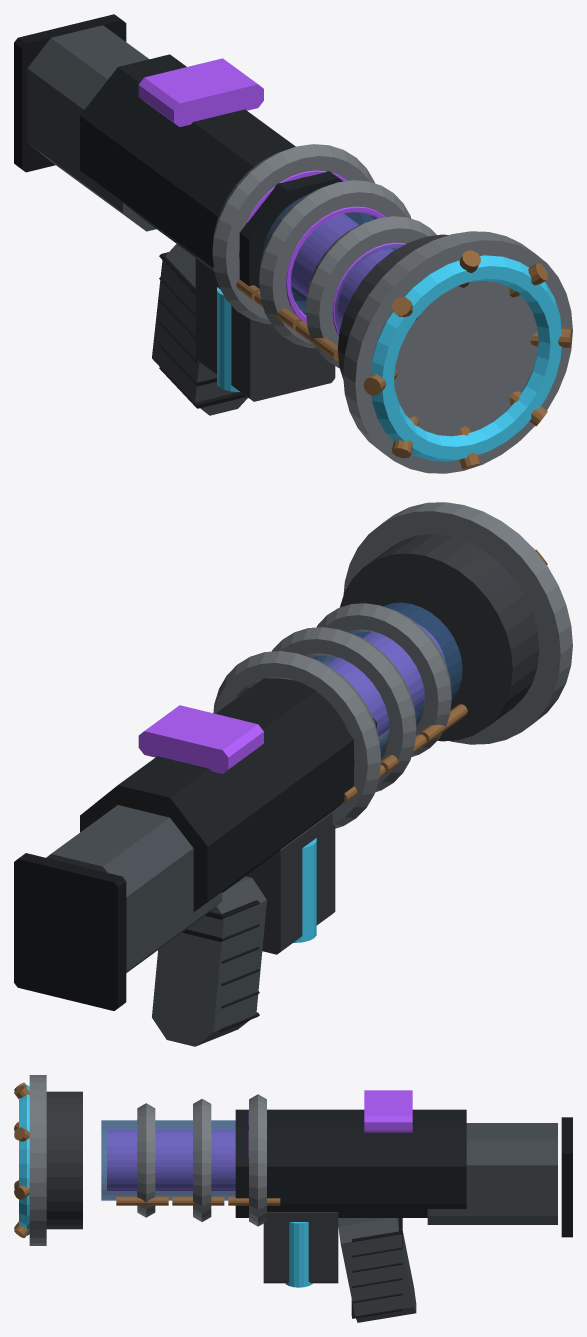
File: 10_Resonance_Pulse_Projector.obj
3 views of the same model, one above another, from view 1: azimuth 30°, elevation 25°; view 2: azimuth 150°, elevation 25°; view 3: azimuth 270°, elevation 25° (orthographic). The views are drawn at different scales.
Visible parts, largest first — view 1: 025_Dish_Reflector, 000_Power_Receiver, 026_Pulse_Mouth, 001_Shoulder_Brace, 036_Battery_Pack, 010_Magnetic_Torus_0, 014_Magnetic_Torus_1, 003_Angled_Grip, 035_Reactor_Display, 018_Magnetic_Torus_2, 022_Pulse_Capacitor, 002_ButtPad (+5 smaller); view 2: 000_Power_Receiver, 024_Dish_Base, 002_ButtPad, 025_Dish_Reflector, 003_Angled_Grip, 001_Shoulder_Brace, 010_Magnetic_Torus_0, 036_Battery_Pack, 014_Magnetic_Torus_1, 018_Magnetic_Torus_2, 035_Reactor_Display, 022_Pulse_Capacitor (+2 smaller); view 3: 000_Power_Receiver, 001_Shoulder_Brace, 022_Pulse_Capacitor, 003_Angled_Grip, 023_Purple_Plasma, 024_Dish_Base, 036_Battery_Pack, 025_Dish_Reflector, 010_Magnetic_Torus_0, 014_Magnetic_Torus_1, 035_Reactor_Display, 018_Magnetic_Torus_2 (+5 smaller).
Boxes of the visible parts, x1,y1,x2,y2 form: 025_Dish_Reflector: [343, 231, 572, 473]; 000_Power_Receiver: [80, 54, 375, 314]; 026_Pulse_Mouth: [370, 255, 561, 461]; 001_Shoulder_Brace: [27, 25, 156, 231]; 036_Battery_Pack: [195, 257, 335, 401]; 010_Magnetic_Torus_0: [212, 144, 374, 324]; 014_Magnetic_Torus_1: [259, 180, 411, 348]; 003_Angled_Grip: [152, 244, 247, 415]; 035_Reactor_Display: [138, 58, 263, 126]; 018_Magnetic_Torus_2: [306, 216, 436, 367]; 022_Pulse_Capacitor: [262, 196, 402, 331]; 002_ButtPad: [14, 14, 126, 172]; 000_Power_Receiver: [80, 678, 376, 911]; 024_Dish_Base: [340, 534, 539, 741]; 002_ButtPad: [14, 853, 126, 1010]; 025_Dish_Reflector: [343, 502, 572, 744]; 003_Angled_Grip: [152, 876, 266, 1046]; 001_Shoulder_Brace: [46, 805, 222, 972]; 010_Magnetic_Torus_0: [213, 651, 380, 828]; 036_Battery_Pack: [246, 812, 335, 954]; 014_Magnetic_Torus_1: [271, 627, 416, 792]; 018_Magnetic_Torus_2: [314, 603, 451, 756]; 035_Reactor_Display: [138, 705, 263, 773]; 022_Pulse_Capacitor: [312, 602, 462, 752]; 000_Power_Receiver: [235, 1109, 466, 1217]; 001_Shoulder_Brace: [427, 1123, 557, 1224]; 022_Pulse_Capacitor: [101, 1120, 235, 1200]; 003_Angled_Grip: [338, 1218, 416, 1322]; 023_Purple_Plasma: [107, 1130, 235, 1190]; 024_Dish_Base: [46, 1091, 82, 1229]; 036_Battery_Pack: [263, 1212, 338, 1283]; 025_Dish_Reflector: [29, 1075, 46, 1245]; 010_Magnetic_Torus_0: [249, 1094, 266, 1226]; 014_Magnetic_Torus_1: [193, 1099, 211, 1221]; 035_Reactor_Display: [364, 1090, 412, 1132]; 018_Magnetic_Torus_2: [137, 1103, 155, 1217].
Bounding box in the file's own units: 0.46 × 0.697 × 1.5.
